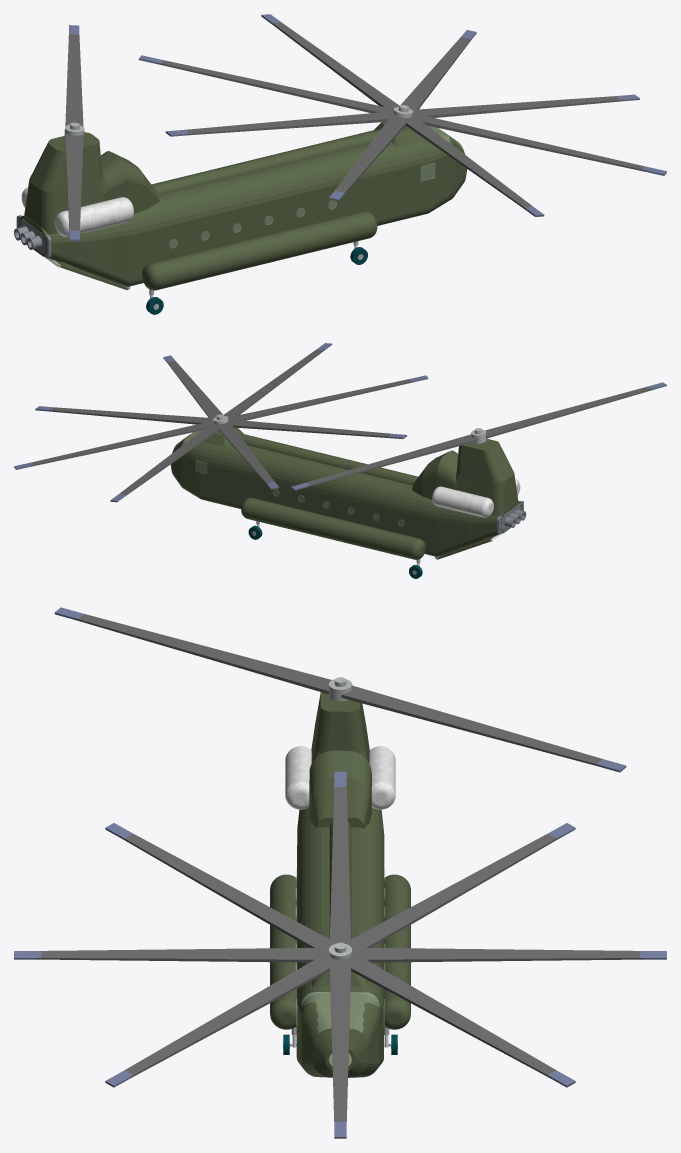
Rendered from Military_helicopter__0422.glb.
3 renders of one model, top to bottom at view 1: azimuth 30°, elevation 25°; view 2: azimuth 150°, elevation 25°; view 3: azimuth 270°, elevation 25°, orthographic. The views are drawn at different scales.
Parts seen in each view (by area): view 1: fuselage::hull, fuselage::right_sponson, fuselage::rear_pylon, fuselage::spine_fairing, fuselage::dorsal_hump, front_rotor::blade_7, front_rotor::blade_3, front_rotor::blade_4, front_rotor::blade_0, fuselage::right_engine_nacelle, front_rotor::blade_6, front_rotor::blade_2 (+6 smaller); view 2: fuselage::hull, fuselage::left_sponson, fuselage::rear_pylon, fuselage::spine_fairing, fuselage::dorsal_hump, rear_rotor::blade_0, fuselage::left_engine_nacelle, rear_rotor::blade_1, front_rotor::blade_1, front_rotor::blade_5, front_rotor::blade_4, front_rotor::blade_0 (+5 smaller); view 3: fuselage::hull, fuselage::dorsal_hump, front_rotor::blade_6, front_rotor::blade_2, front_rotor::blade_1, front_rotor::blade_7, front_rotor::blade_3, front_rotor::blade_5, rear_rotor::blade_0, rear_rotor::blade_1, front_rotor::blade_0, fuselage::rear_pylon (+6 smaller).
Boxes of the visible parts, bbox=[...] form: fuselage::hull: bbox=[18, 125, 467, 286]; fuselage::right_sponson: bbox=[142, 211, 377, 290]; fuselage::rear_pylon: bbox=[24, 132, 105, 234]; fuselage::spine_fairing: bbox=[152, 129, 380, 195]; fuselage::dorsal_hump: bbox=[100, 151, 159, 213]; front_rotor::blade_7: bbox=[407, 113, 666, 175]; front_rotor::blade_3: bbox=[157, 60, 394, 115]; front_rotor::blade_4: bbox=[166, 111, 401, 135]; front_rotor::blade_0: bbox=[412, 96, 623, 117]; fuselage::right_engine_nacelle: bbox=[55, 197, 133, 236]; front_rotor::blade_6: bbox=[398, 116, 543, 216]; front_rotor::blade_2: bbox=[270, 22, 399, 112]; fuselage::hull: bbox=[170, 430, 522, 556]; fuselage::left_sponson: bbox=[241, 497, 425, 559]; fuselage::rear_pylon: bbox=[455, 438, 518, 515]; fuselage::spine_fairing: bbox=[238, 433, 417, 485]; fuselage::dorsal_hump: bbox=[412, 450, 458, 499]; rear_rotor::blade_0: bbox=[306, 434, 478, 486]; fuselage::left_engine_nacelle: bbox=[432, 486, 493, 517]; rear_rotor::blade_1: bbox=[485, 387, 653, 438]; front_rotor::blade_1: bbox=[14, 421, 217, 469]; front_rotor::blade_5: bbox=[227, 379, 413, 422]; front_rotor::blade_4: bbox=[222, 419, 406, 438]; front_rotor::blade_0: bbox=[48, 407, 213, 424]; fuselage::hull: bbox=[296, 807, 384, 1077]; fuselage::dorsal_hump: bbox=[309, 750, 371, 828]; front_rotor::blade_6: bbox=[36, 947, 333, 962]; front_rotor::blade_2: bbox=[347, 947, 643, 962]; front_rotor::blade_1: bbox=[338, 952, 575, 1086]; front_rotor::blade_7: bbox=[105, 952, 342, 1086]; front_rotor::blade_3: bbox=[344, 833, 559, 954]; front_rotor::blade_5: bbox=[121, 833, 336, 954]; rear_rotor::blade_0: bbox=[341, 685, 601, 766]; rear_rotor::blade_1: bbox=[74, 614, 331, 694]; front_rotor::blade_0: bbox=[329, 958, 351, 1138]; fuselage::rear_pylon: bbox=[311, 692, 369, 763].
Size of the model in its own units: 25.84 by 6.76 by 17.9.
11 materials, 8 textured.
